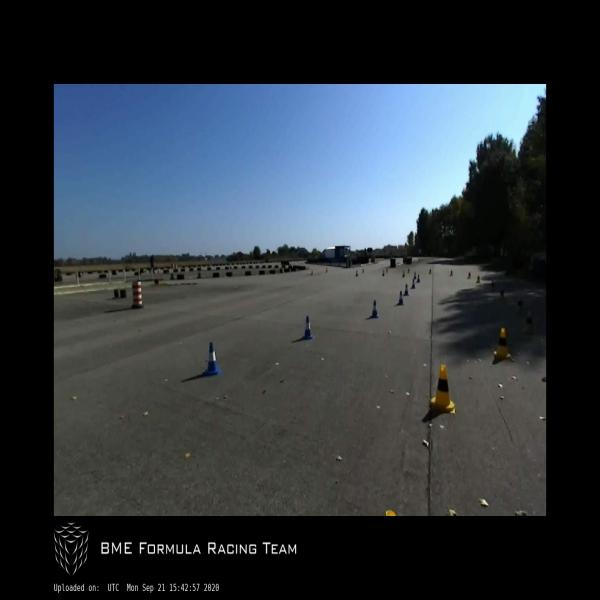blue_cone: (202, 342, 221, 376), (303, 316, 313, 339), (370, 300, 379, 318), (398, 291, 404, 305), (403, 284, 409, 296), (411, 279, 415, 289), (416, 274, 420, 283), (402, 271, 405, 277), (355, 270, 358, 276), (414, 272, 416, 279), (311, 269, 313, 275), (383, 269, 384, 276)
yellow_cone: (430, 366, 455, 414), (494, 328, 511, 360), (524, 312, 534, 336), (516, 296, 523, 312), (500, 289, 504, 298), (476, 276, 480, 283), (492, 280, 494, 288), (468, 272, 470, 278), (450, 270, 452, 276), (429, 268, 431, 274), (362, 268, 364, 273), (386, 268, 388, 273), (326, 268, 328, 272), (408, 268, 409, 273)
